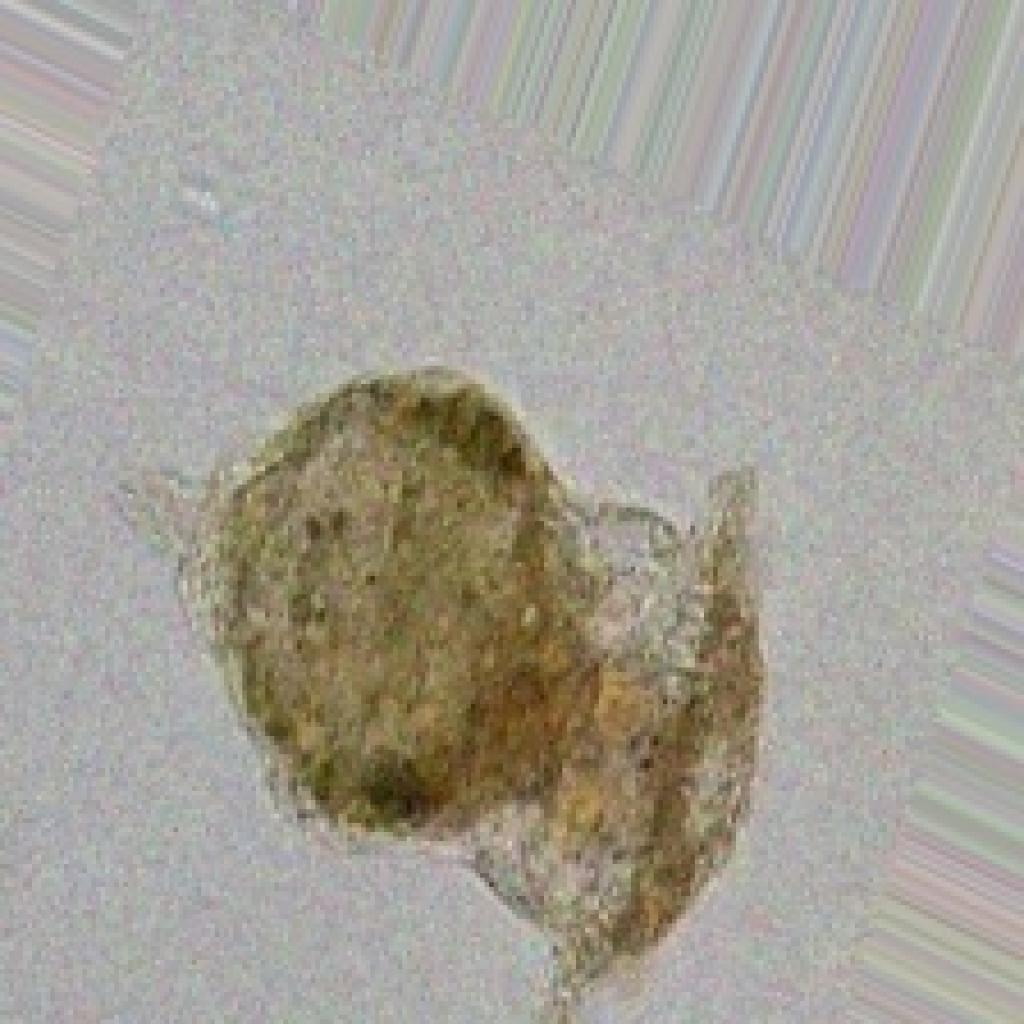Rotifer: (146, 356, 768, 1020)
